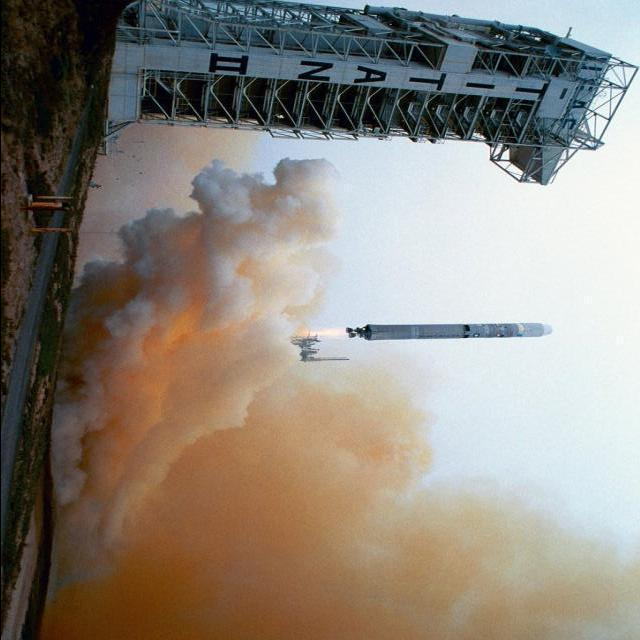missile: (347, 318, 550, 346)
